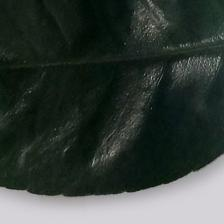healthy: (1, 1, 219, 156)
